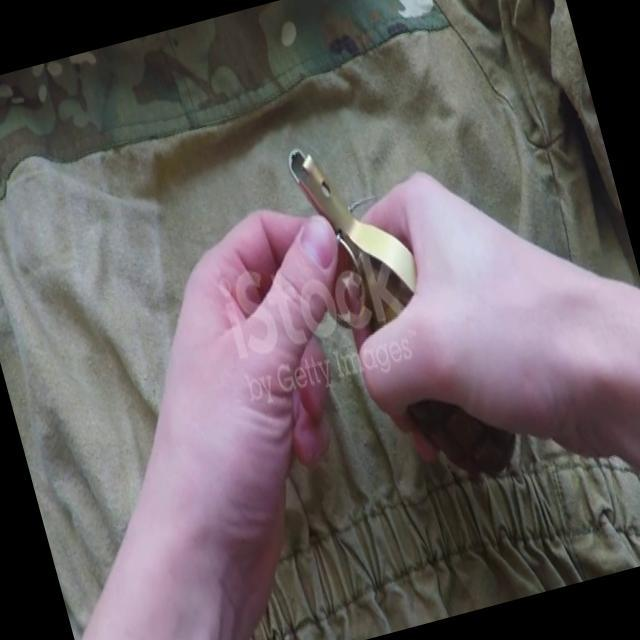grenade: (282, 110, 536, 514)
